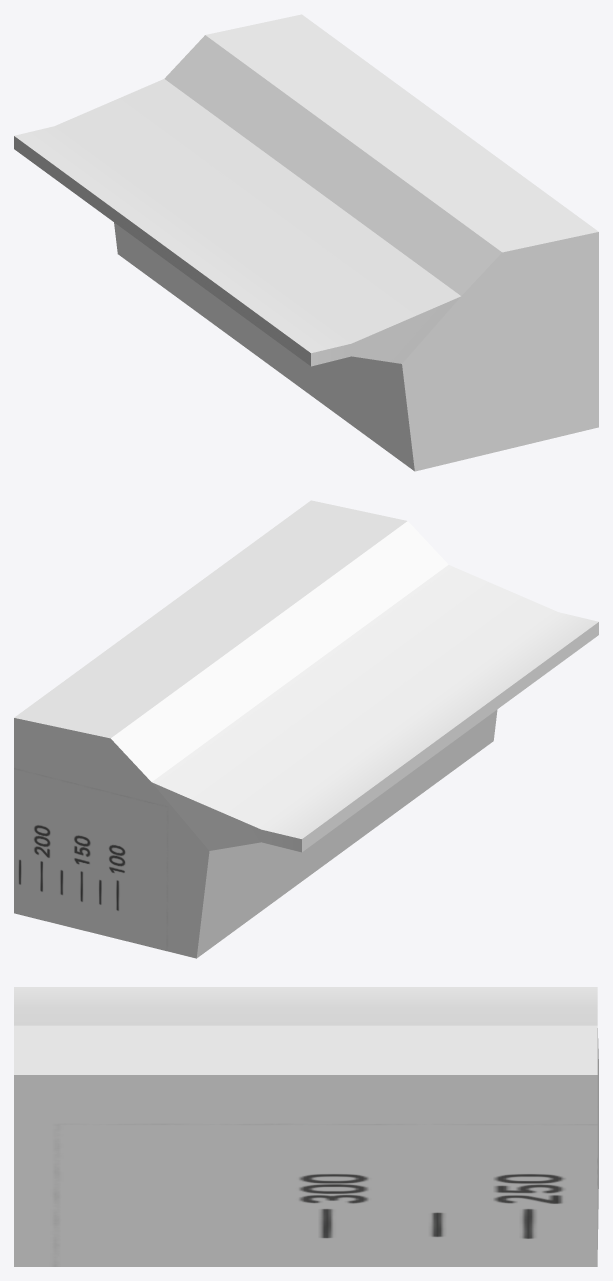
Rendered from Machine_big.fbx.
3 renders of one model, top to bottom at view 1: azimuth 30°, elevation 25°; view 2: azimuth 150°, elevation 25°; view 3: azimuth 270°, elevation 25°, orthographic.
Visible parts, largest first — view 1: pCube27; view 2: pCube27; view 3: pCube27.
Boxes of the visible parts, x1,y1,x2,y2 form: pCube27: [14, 14, 598, 471]; pCube27: [14, 500, 598, 958]; pCube27: [14, 987, 598, 1266].
Size of the model in its own units: 6.66 by 4.38 by 11.92.
